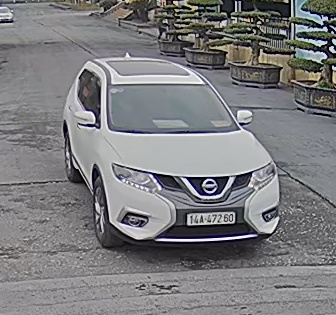vehicle plate: (185, 208, 236, 225)
